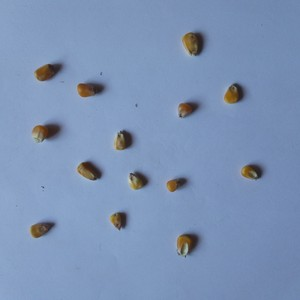maiz: (180, 30, 201, 56), (174, 232, 193, 259), (76, 160, 100, 180), (33, 61, 55, 82), (222, 82, 242, 105), (240, 163, 263, 182), (74, 81, 98, 99), (110, 129, 129, 151), (29, 222, 52, 239), (29, 122, 48, 142), (126, 170, 144, 191), (163, 176, 184, 194), (107, 211, 123, 229), (178, 101, 193, 120)
